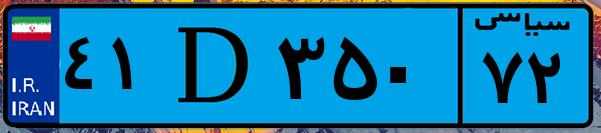0: (385, 28, 445, 110)
1: (110, 28, 158, 98)
2: (525, 38, 570, 115)
3: (270, 28, 330, 110)
4: (57, 26, 110, 100)
5: (330, 28, 385, 110)
7: (475, 38, 525, 113)
D: (158, 12, 270, 120)
